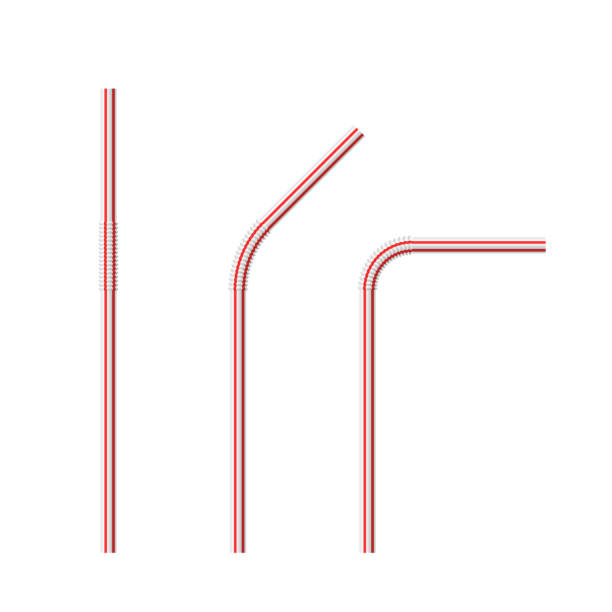Drinking Straw: (356, 233, 550, 558), (226, 120, 369, 558), (96, 84, 125, 557)
